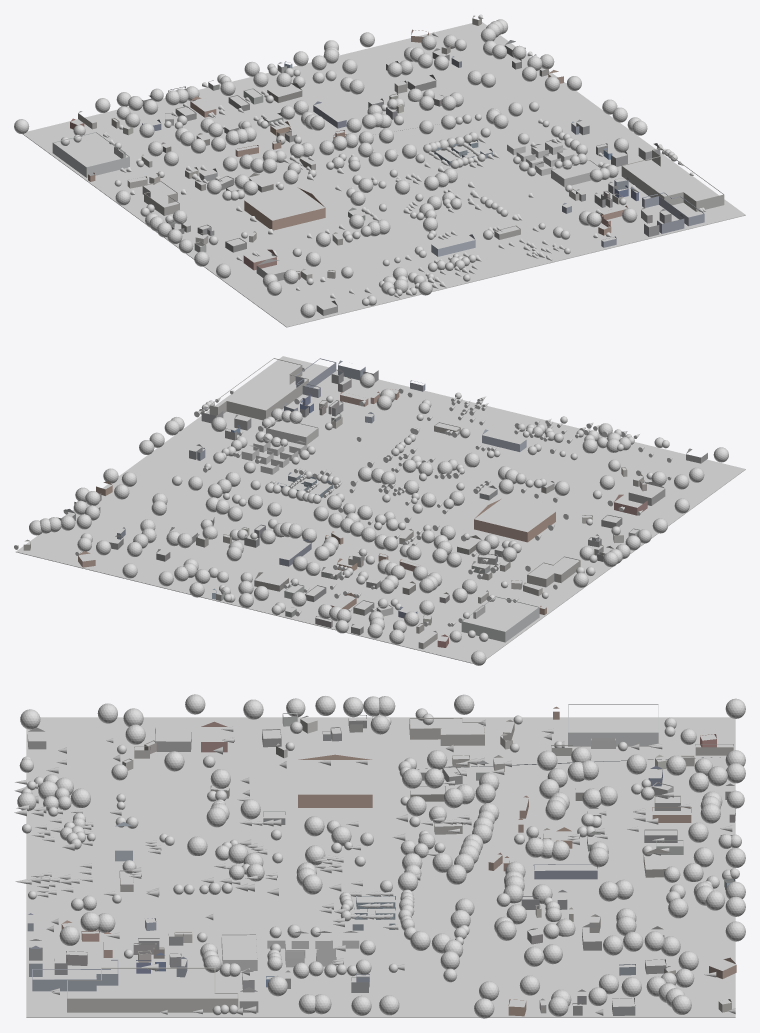
File: scene_4dd9acbc-3c75-4d4b-a2b1-ca0c13a0b2de.glb
3 renders of one model, top to bottom at view 1: azimuth 30°, elevation 25°; view 2: azimuth 150°, elevation 25°; view 3: azimuth 270°, elevation 25°, orthographic. The views are drawn at different scales.
Visible parts, largest first — view 1: Ground_Base, BLD-001, BLD-003, BLD-002, BLD-009; view 2: Ground_Base, BLD-001, BLD-002, BLD-003, BLD-009, BLD-005; view 3: Ground_Base, BLD-001, BLD-003, BLD-002, BLD-009, BLD-005, BLD-012.
Boxes of the visible parts, x1,y1,x2,y2 form: Ground_Base: (22,22,745,327); BLD-001: (621,148,724,211); BLD-003: (52,132,129,177); BLD-002: (244,188,325,230); BLD-009: (642,192,704,226); Ground_Base: (16,356,745,663); BLD-001: (209,358,308,420); BLD-002: (474,499,555,542); BLD-003: (461,596,539,642); BLD-009: (295,358,336,397); BLD-005: (527,556,580,587); Ground_Base: (26,717,735,1017); BLD-001: (67,967,238,1012); BLD-003: (568,704,658,746); BLD-002: (298,754,372,807); BLD-009: (32,959,118,991); BLD-005: (409,718,484,745); BLD-012: (533,864,597,879).
Size of the model in its own units: 368 by 17.16 by 370.
